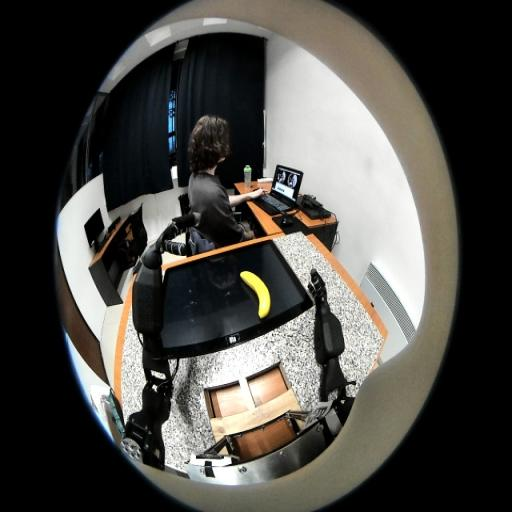Banana: (240, 271, 271, 319)
LeftHand: (156, 226, 174, 254)
RightHand: (315, 288, 327, 305)
